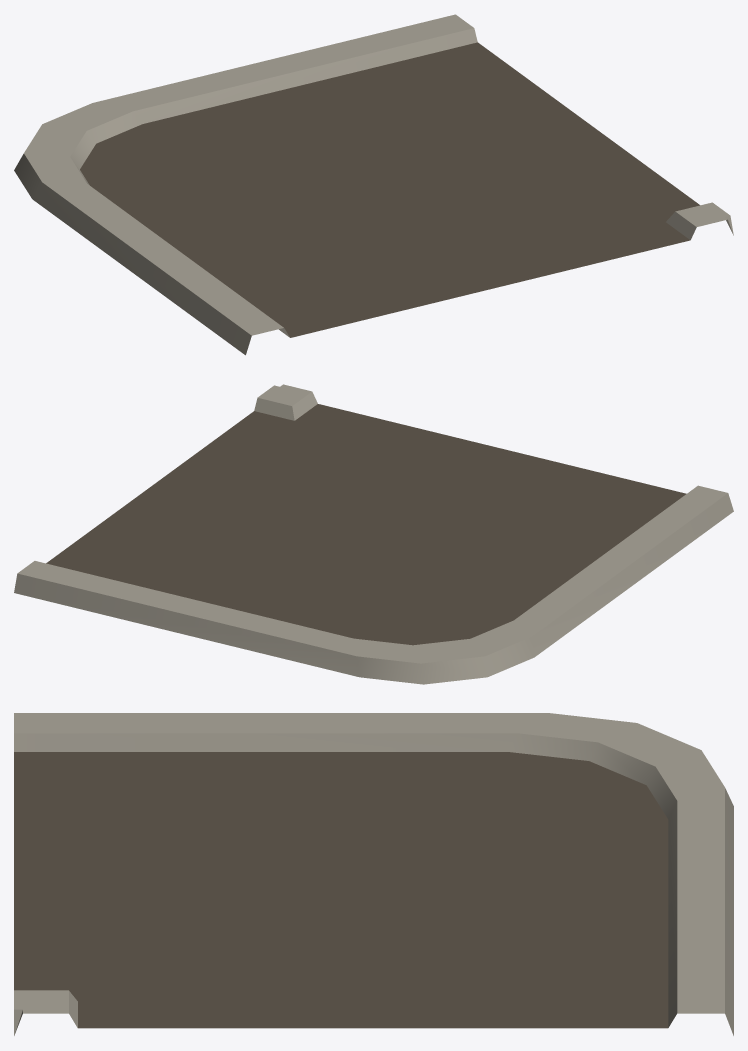
The model's file is ParkRoad_4_B.fbx.
3 views of the same model, one above another, from view 1: azimuth 30°, elevation 25°; view 2: azimuth 150°, elevation 25°; view 3: azimuth 270°, elevation 25° (orthographic). The views are drawn at different scales.
Visible parts, largest first — view 1: ParkRoad_4_B; view 2: ParkRoad_4_B; view 3: ParkRoad_4_B.
Part boxes in pixels (box(x1,y1,x2,y2)): ParkRoad_4_B: box(14, 14, 733, 355); ParkRoad_4_B: box(14, 384, 733, 684); ParkRoad_4_B: box(14, 713, 733, 1035).
Size of the model in its own units: 200 by 7.16 by 200.
